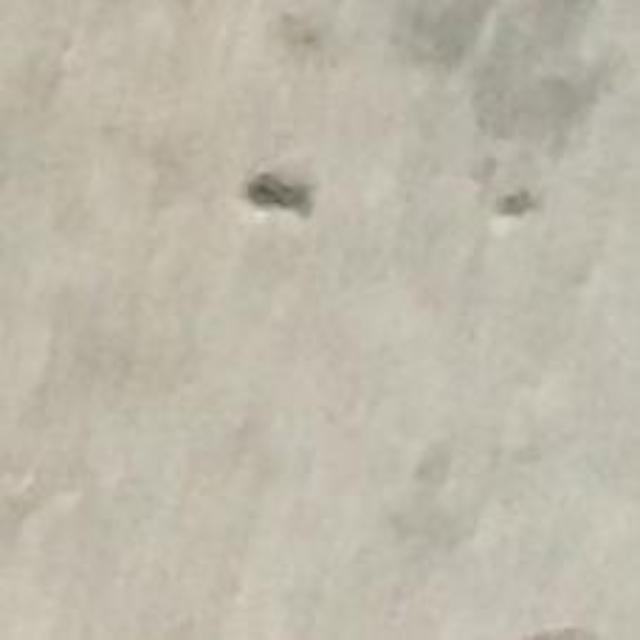peeling plaster: (246, 172, 312, 217)
